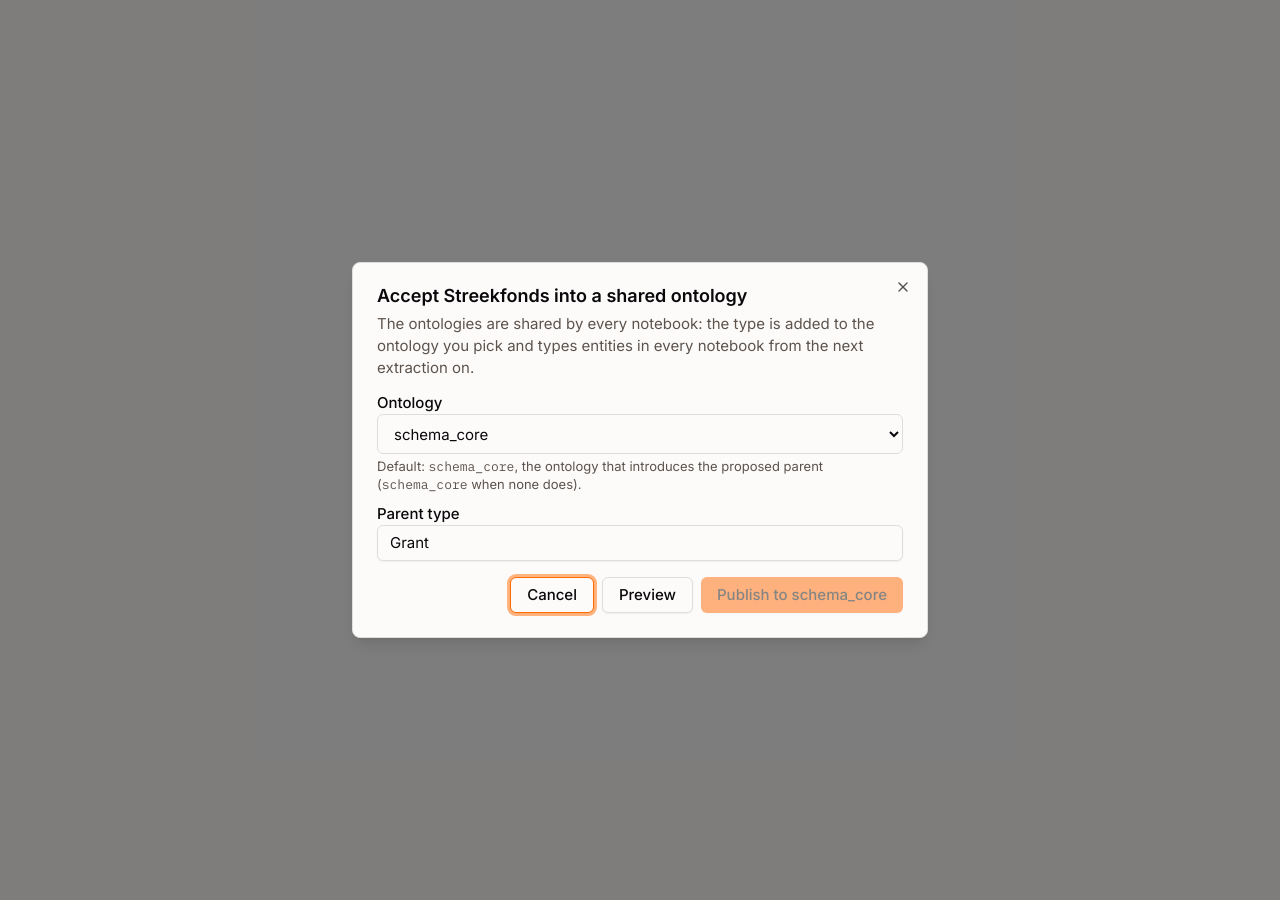
Test: AcceptExtensionDialog › a blocking finding is shown and the publish stays disabled
The width and height of the screenshot is (1280, 900).
Click the button with test id "accept-preview" at point(647, 595), box [602,577,693,613]
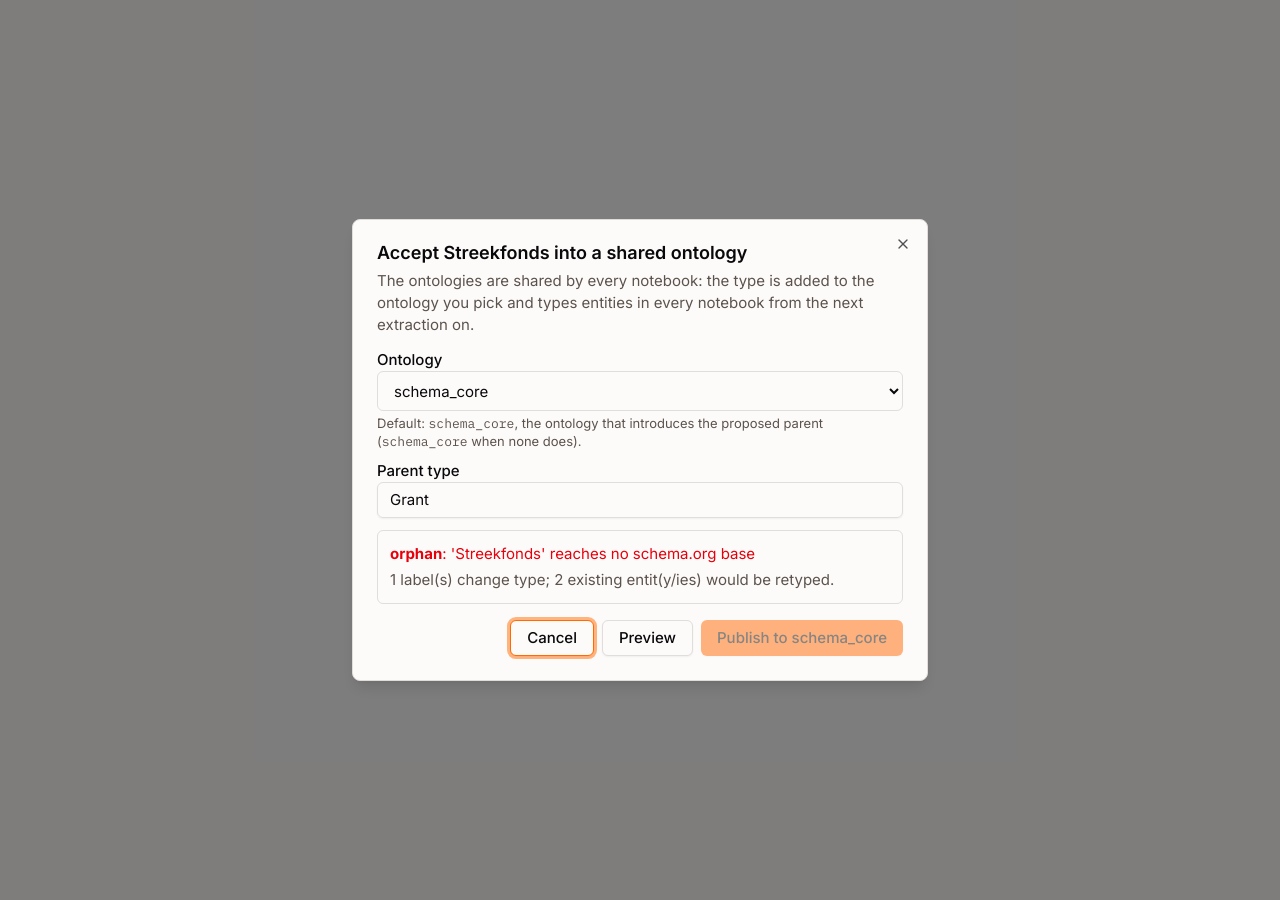
expect the button with test id "accept-publish" is disabled: met, box [701,620,903,656]
expect the list with test id "accept-preview-blocking" shows "orphan": met, box [390,544,442,563]
